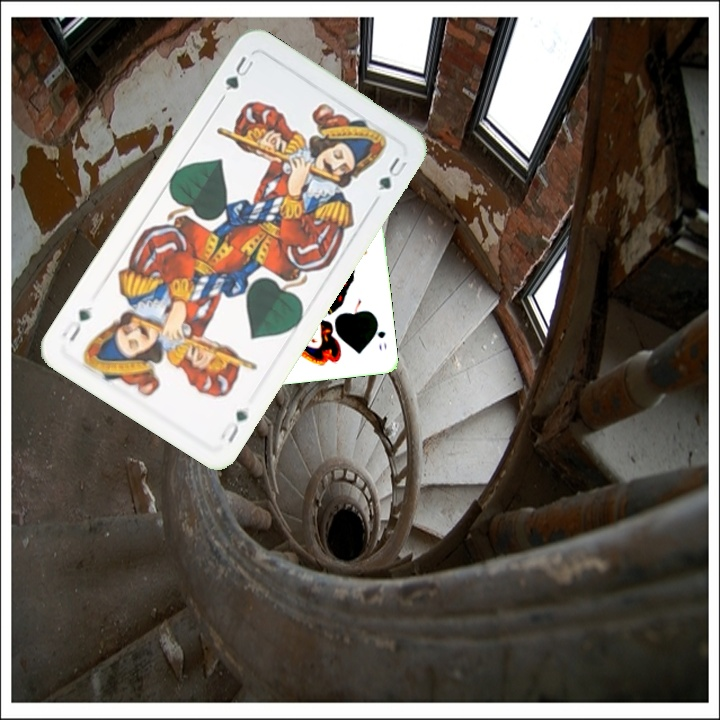GO: (371, 317, 389, 353)
GU: (221, 52, 257, 94), (216, 406, 251, 446)
